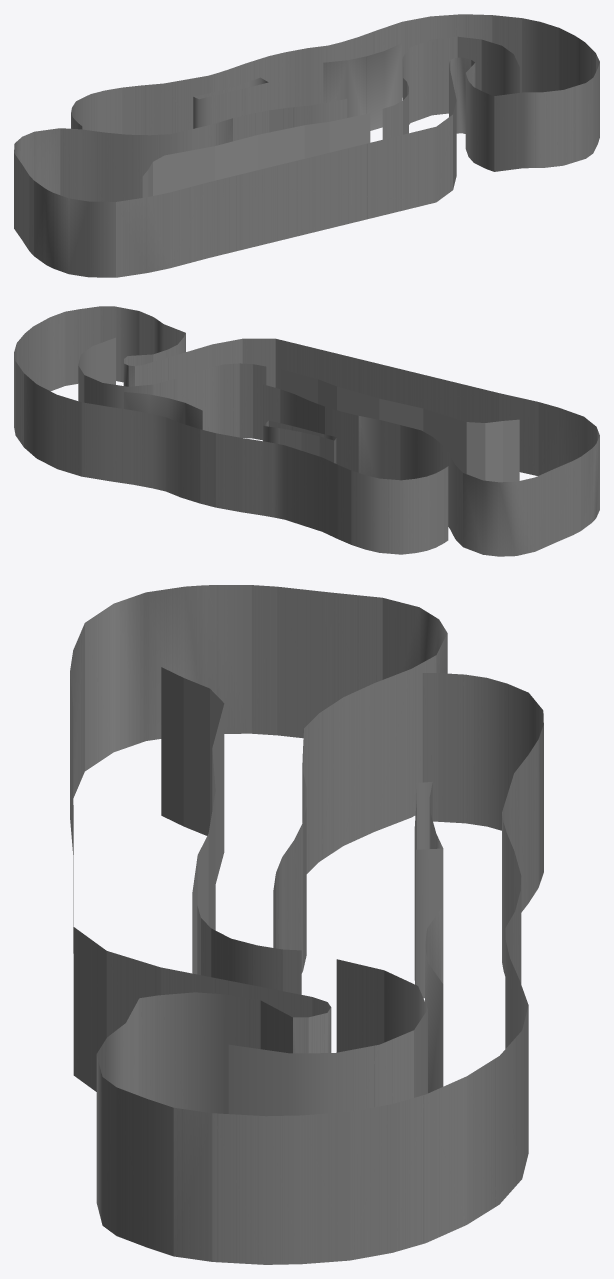
File: Colisions.fbx
The picture shows the model from 3 angles, top to bottom: view 1: azimuth 30°, elevation 25°; view 2: azimuth 150°, elevation 25°; view 3: azimuth 270°, elevation 25°; orthographic projection. The views are drawn at different scales.
Parts seen in each view (by area): view 1: Plane.007; view 2: Plane.007; view 3: Plane.007.
Part boxes in pixels (x1,y1,x2,y2): Plane.007: [14, 14, 599, 277]; Plane.007: [14, 306, 599, 556]; Plane.007: [70, 585, 543, 1264].
Bounding box in the file's own units: 16103 × 2107 × 6070.
